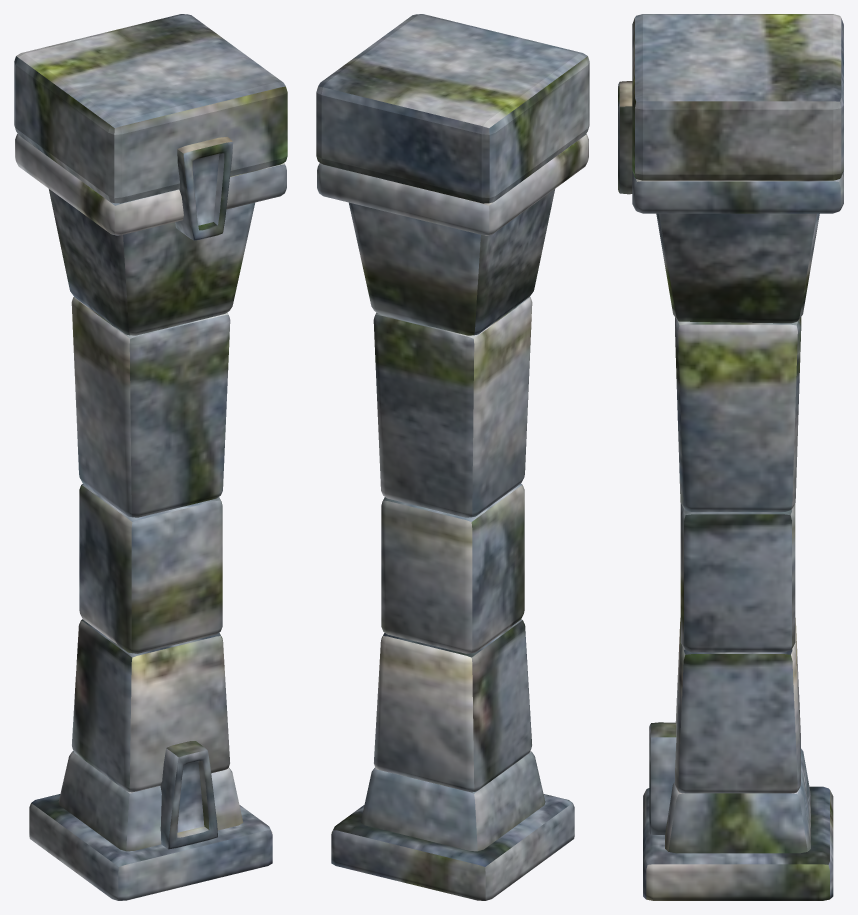
Rendered from dungeonPillar.obj.
3 views of the same model, side by side, from view 1: azimuth 30°, elevation 25°; view 2: azimuth 150°, elevation 25°; view 3: azimuth 270°, elevation 25° (orthographic). The views are drawn at different scales.
Parts seen in each view (by area): view 1: MESH_StonePillar_0010, MESH_StonePillar_0004, MESH_StonePillar_0003, MESH_StonePillar_0002, MESH_StonePillar_0005, MESH_StonePillar_0000, MESH_StonePillar_0001, MESH_StonePillar_0006, MESH_StonePillar_0008, MESH_StonePillar_0007; view 2: MESH_StonePillar_0010, MESH_StonePillar_0004, MESH_StonePillar_0002, MESH_StonePillar_0003, MESH_StonePillar_0005, MESH_StonePillar_0000, MESH_StonePillar_0001, MESH_StonePillar_0006; view 3: MESH_StonePillar_0010, MESH_StonePillar_0004, MESH_StonePillar_0002, MESH_StonePillar_0003, MESH_StonePillar_0005, MESH_StonePillar_0000, MESH_StonePillar_0001, MESH_StonePillar_0006, MESH_StonePillar_0008, MESH_StonePillar_0007.
Part boxes in pixels (x1,y1,x2,y2): MESH_StonePillar_0010: (14, 14, 287, 203); MESH_StonePillar_0004: (71, 297, 230, 517); MESH_StonePillar_0003: (79, 484, 222, 653); MESH_StonePillar_0002: (72, 619, 229, 792); MESH_StonePillar_0005: (49, 189, 254, 335); MESH_StonePillar_0000: (29, 794, 272, 900); MESH_StonePillar_0001: (58, 751, 243, 851); MESH_StonePillar_0006: (15, 134, 286, 235); MESH_StonePillar_0008: (160, 741, 217, 849); MESH_StonePillar_0007: (175, 136, 233, 240); MESH_StonePillar_0010: (316, 14, 589, 203); MESH_StonePillar_0004: (373, 297, 532, 517); MESH_StonePillar_0002: (374, 619, 531, 792); MESH_StonePillar_0003: (381, 484, 524, 653); MESH_StonePillar_0005: (349, 189, 554, 335); MESH_StonePillar_0000: (331, 794, 574, 900); MESH_StonePillar_0001: (360, 751, 545, 851); MESH_StonePillar_0006: (317, 134, 588, 235); MESH_StonePillar_0010: (632, 14, 843, 180); MESH_StonePillar_0004: (675, 317, 801, 511); MESH_StonePillar_0002: (675, 617, 800, 793); MESH_StonePillar_0003: (680, 503, 795, 652); MESH_StonePillar_0005: (656, 213, 819, 323); MESH_StonePillar_0000: (643, 786, 833, 900); MESH_StonePillar_0001: (665, 748, 810, 853); MESH_StonePillar_0006: (632, 170, 843, 213); MESH_StonePillar_0008: (649, 722, 676, 834); MESH_StonePillar_0007: (618, 81, 632, 194).
Bounding box in the file's own units: 1 × 4.2 × 1.07.
1 material, 1 textured.
